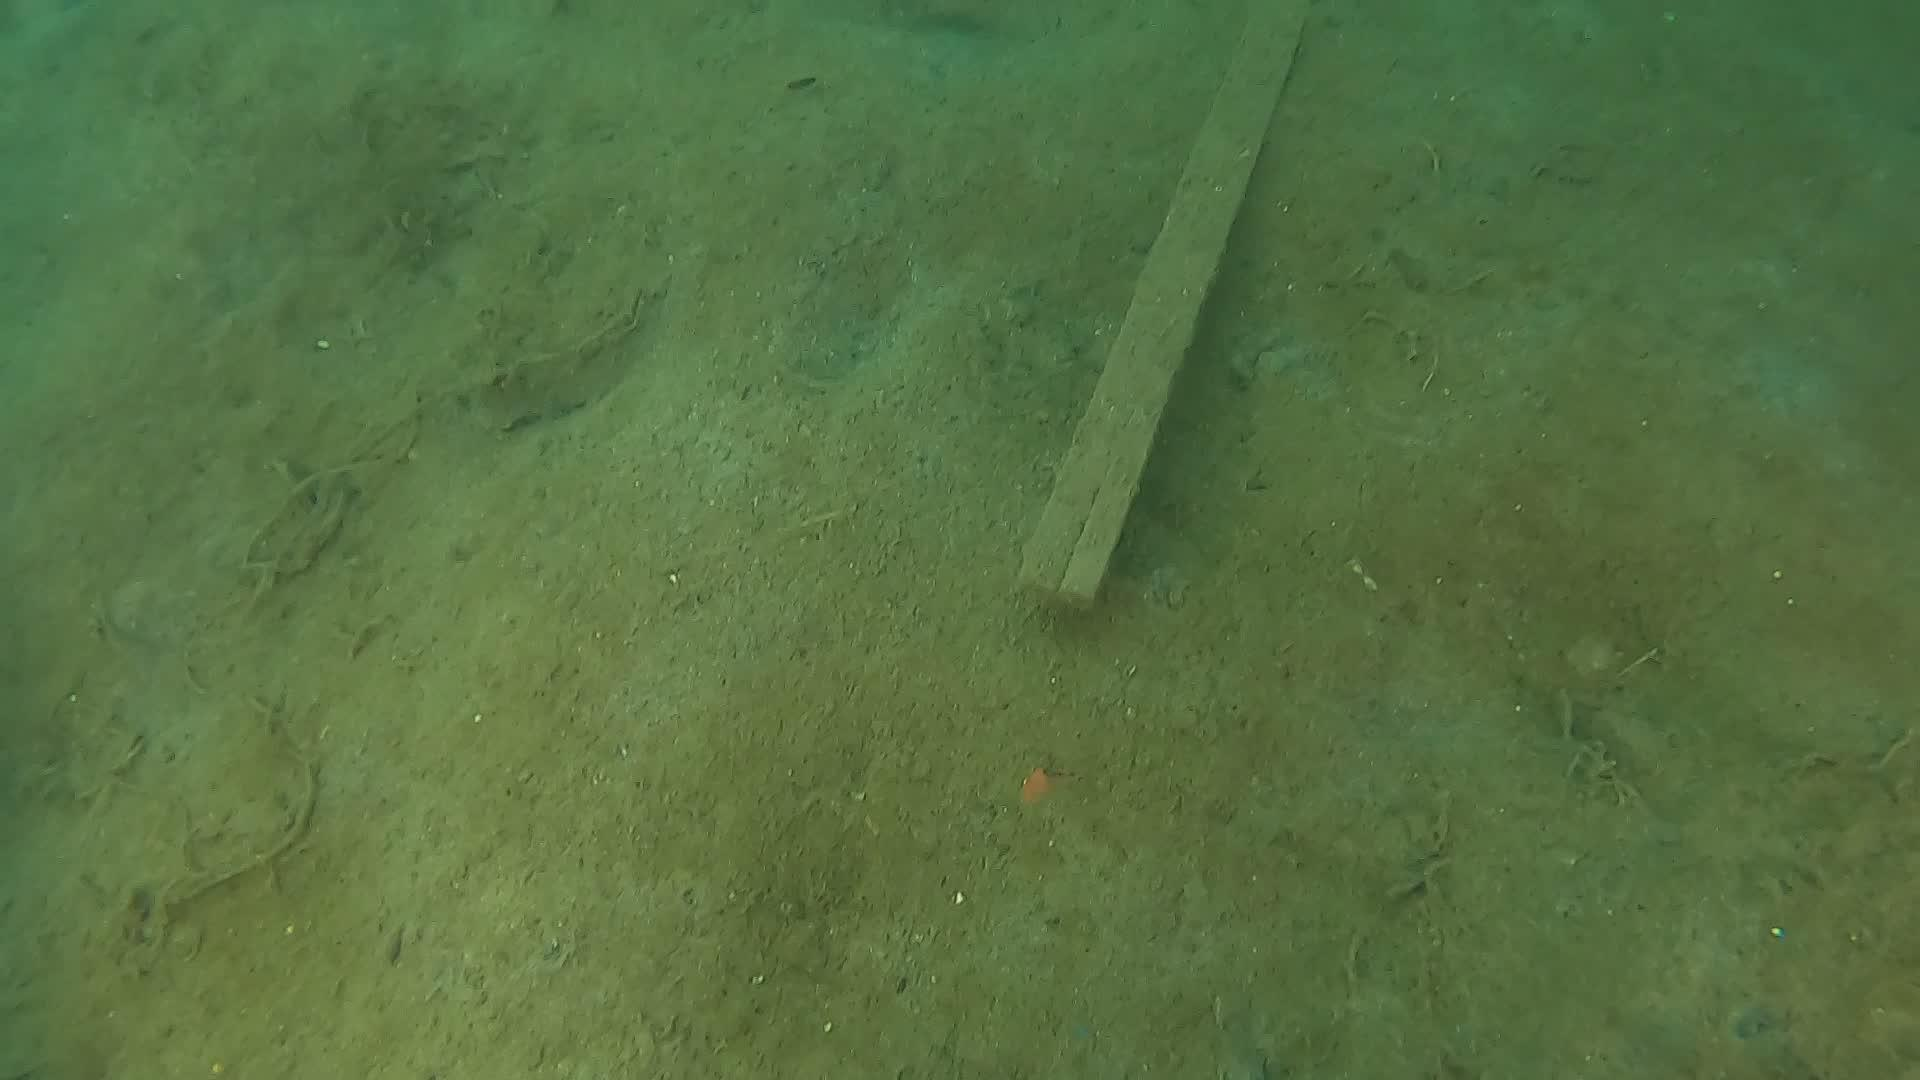wood: (1015, 0, 1313, 608)
